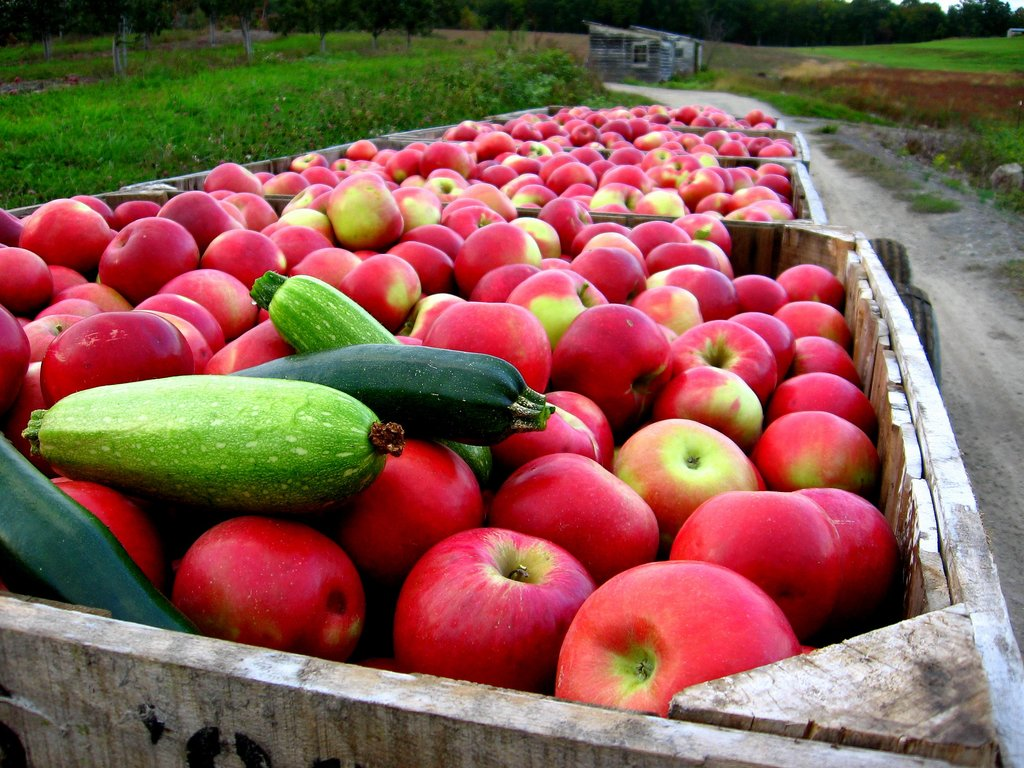Apple: (0, 103, 903, 716), (394, 522, 599, 690), (176, 517, 366, 657)
